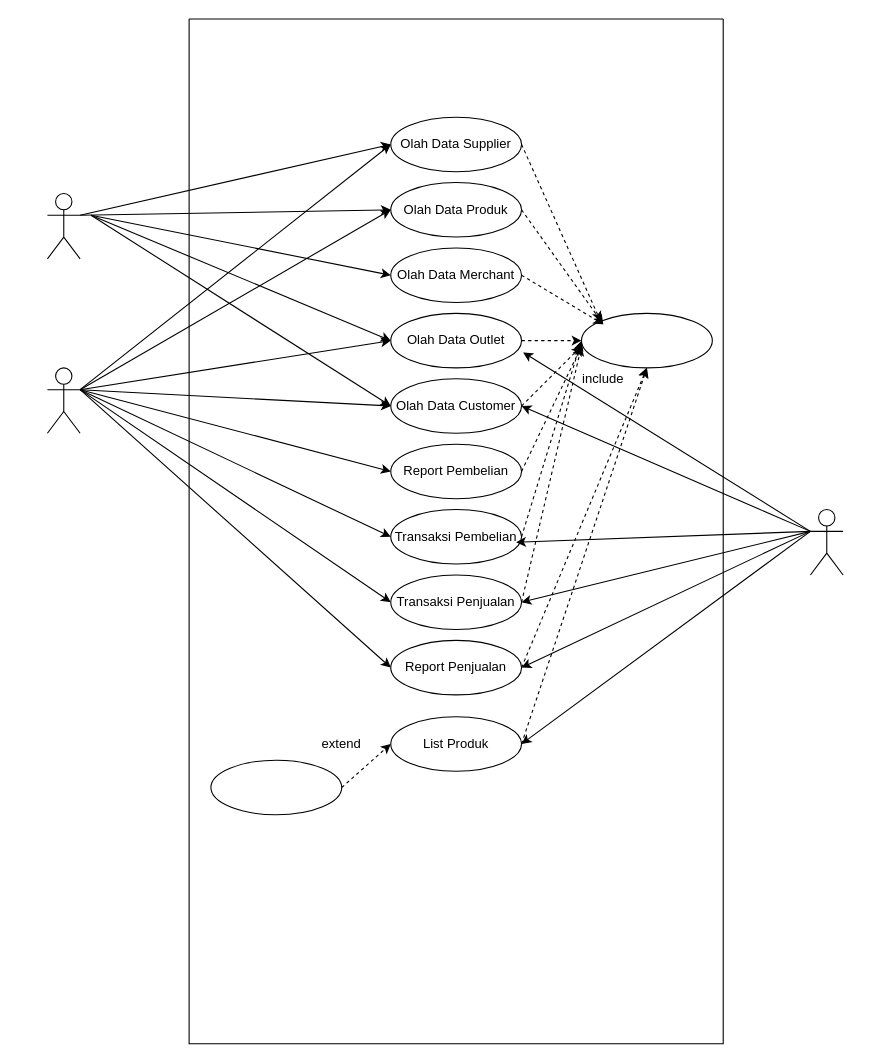
The diagram is 879 pixels wide and 1063 high, and some of its shapes have lost their labels. The shapes that lost their labels are listed below. From the top down, each one's box as (x1, y1, x2, y2) in pixels, then its label:
(46, 192, 80, 259): User Admin
(580, 312, 712, 368): Login
(46, 367, 80, 433): User Merchant
(809, 508, 843, 575): User Outlet
(210, 759, 342, 815): Set Harga
